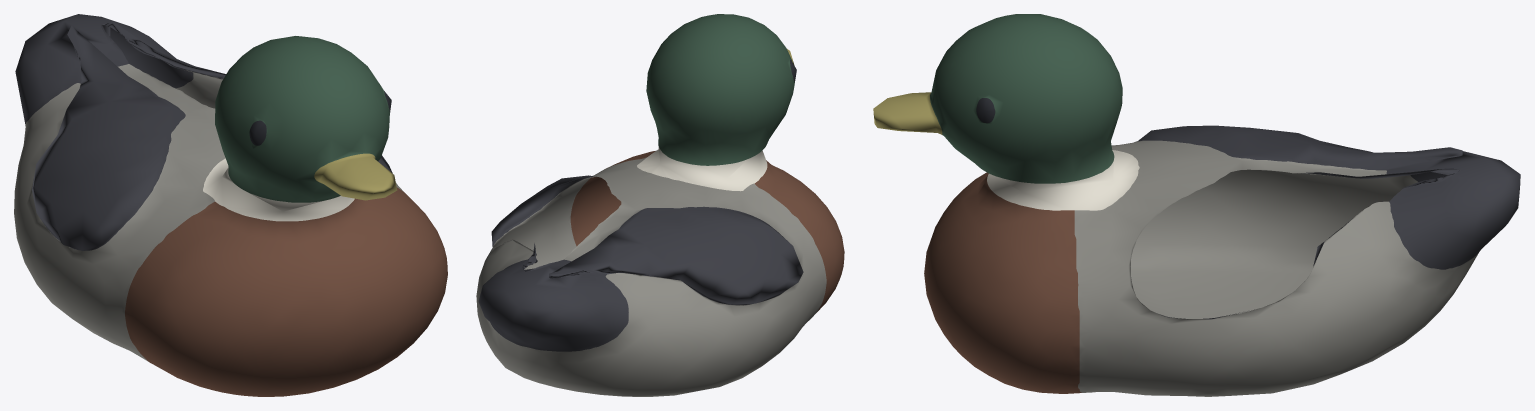
Rendered from skins_decoy3.glb.
The picture shows the model from 3 angles, left to right: view 1: azimuth 30°, elevation 25°; view 2: azimuth 150°, elevation 25°; view 3: azimuth 270°, elevation 25°; orthographic projection. The views are drawn at different scales.
Parts seen in each view (by area): view 1: duck@decoy_breast__p6c4b3c, duck@decoy_head__p3f5a4a, duck@decoy_body__p8b8a84, duck@decoy_wings__p3c3d44, duck@decoy_tail__p3c3d44, duck@decoy_neck__pdcd8cc, duck@decoy_bill__p9c935a, duck@decoy_eye__p2b2d33; view 2: duck@decoy_body__p8b8a84, duck@decoy_head__p3f5a4a, duck@decoy_wings__p3c3d44, duck@decoy_tail__p3c3d44, duck@decoy_breast__p6c4b3c, duck@decoy_neck__pdcd8cc; view 3: duck@decoy_body__p8b8a84, duck@decoy_breast__p6c4b3c, duck@decoy_head__p3f5a4a, duck@decoy_tail__p3c3d44, duck@decoy_wings__p3c3d44, duck@decoy_neck__pdcd8cc, duck@decoy_bill__p9c935a.
Boxes of the visible parts, bbox=[...] form: duck@decoy_breast__p6c4b3c: bbox=[125, 187, 447, 396]; duck@decoy_head__p3f5a4a: bbox=[215, 36, 389, 202]; duck@decoy_body__p8b8a84: bbox=[14, 64, 403, 361]; duck@decoy_wings__p3c3d44: bbox=[32, 22, 392, 250]; duck@decoy_tail__p3c3d44: bbox=[15, 14, 193, 123]; duck@decoy_neck__pdcd8cc: bbox=[203, 158, 354, 221]; duck@decoy_bill__p9c935a: bbox=[314, 153, 397, 200]; duck@decoy_eye__p2b2d33: bbox=[249, 91, 391, 145]; duck@decoy_body__p8b8a84: bbox=[476, 157, 826, 396]; duck@decoy_head__p3f5a4a: bbox=[646, 14, 794, 165]; duck@decoy_wings__p3c3d44: bbox=[491, 175, 803, 305]; duck@decoy_tail__p3c3d44: bbox=[478, 259, 628, 351]; duck@decoy_breast__p6c4b3c: bbox=[570, 151, 844, 312]; duck@decoy_neck__pdcd8cc: bbox=[637, 145, 767, 191]; duck@decoy_body__p8b8a84: bbox=[1074, 140, 1478, 396]; duck@decoy_breast__p6c4b3c: bbox=[924, 172, 1081, 393]; duck@decoy_head__p3f5a4a: bbox=[930, 14, 1122, 183]; duck@decoy_tail__p3c3d44: bbox=[1386, 151, 1520, 269]; duck@decoy_wings__p3c3d44: bbox=[1137, 125, 1462, 319]; duck@decoy_neck__pdcd8cc: bbox=[987, 150, 1139, 210]; duck@decoy_bill__p9c935a: bbox=[873, 92, 942, 134].
Size of the model in its own units: 3.8 by 3.79 by 6.41.
